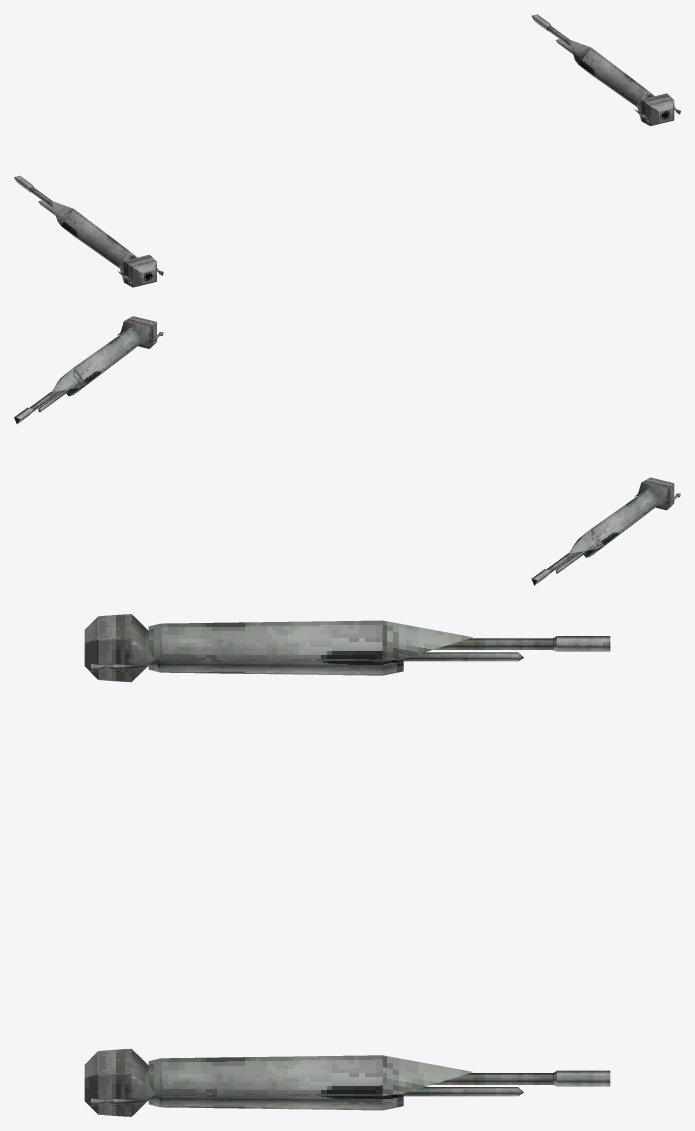
File: xwing_weapon1_neg_s03_l2.fbx
3 renders of one model, top to bottom at view 1: azimuth 30°, elevation 25°; view 2: azimuth 150°, elevation 25°; view 3: azimuth 270°, elevation 25°, orthographic. The views are drawn at different scales.
Parts seen in each view (by area): view 1: mesh_node; view 2: mesh_node; view 3: mesh_node.
Part boxes in pixels (x1,y1,x2,y2): mesh_node: [14, 14, 680, 287]; mesh_node: [14, 316, 680, 585]; mesh_node: [84, 614, 610, 1116].
Size of the model in its own units: 13.81 by 1.5 by 5.7.
